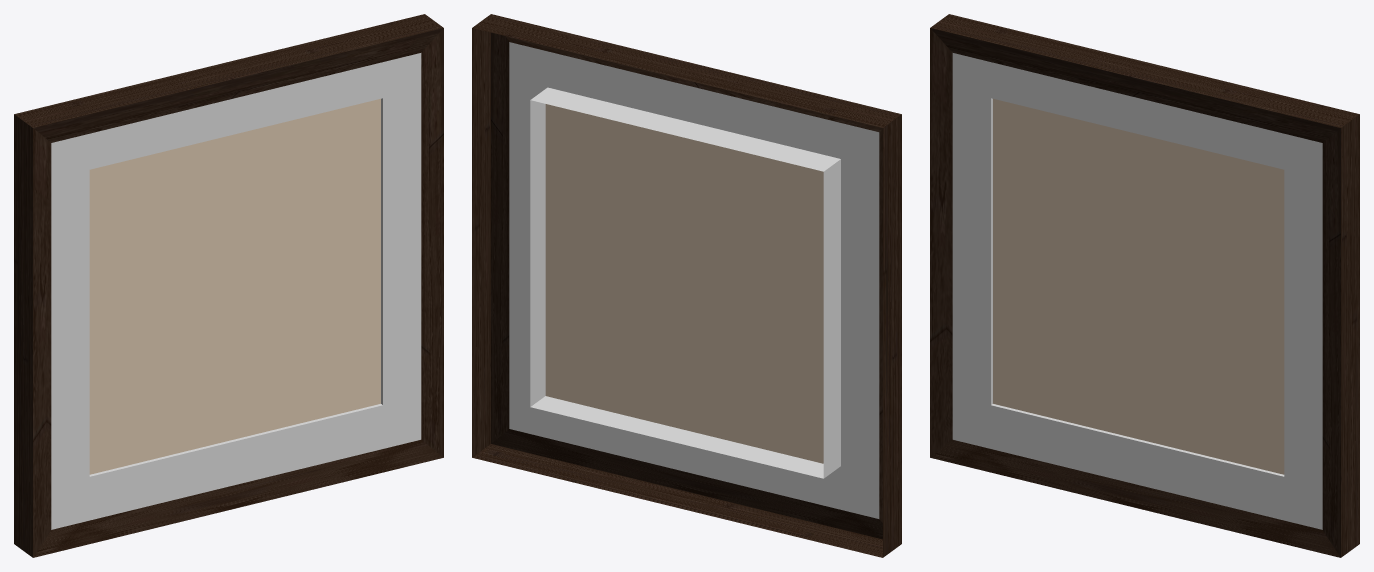
Rendered from frame-square.glb.
The picture shows the model from 3 angles, left to right: view 1: azimuth 30°, elevation 25°; view 2: azimuth 150°, elevation 25°; view 3: azimuth 330°, elevation 25°; orthographic projection.
Parts seen in each view (by area): view 1: Painting, Passepartout, Frame; view 2: Painting, Passepartout, Frame; view 3: Painting, Passepartout, Frame.
Boxes of the visible parts, box(x1,y1,x2,y2) form: Painting: box(89, 98, 380, 474); Passepartout: box(51, 53, 421, 529); Frame: box(14, 14, 443, 557); Painting: box(545, 104, 823, 463); Passepartout: box(509, 42, 879, 518); Frame: box(472, 14, 901, 557); Painting: box(993, 98, 1284, 474); Passepartout: box(952, 53, 1322, 529); Frame: box(930, 14, 1359, 557).
Size of what is drawn, in the model's own units: 35 by 35 by 2.87.
Materials: 3 (1 with a texture image).
